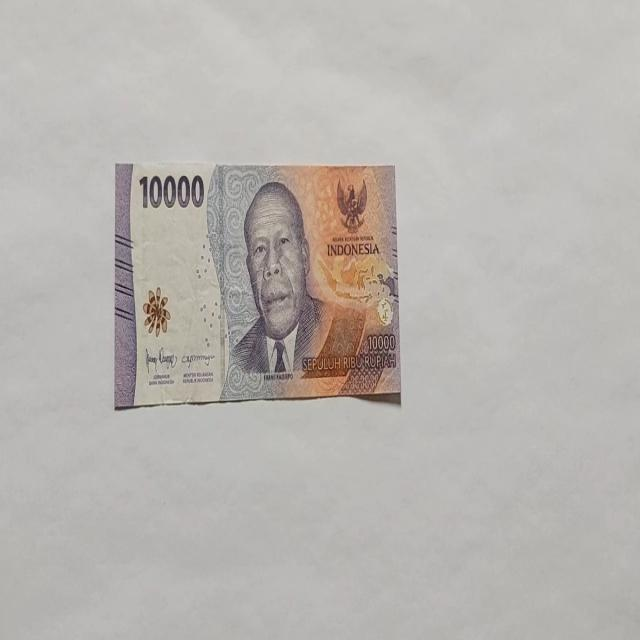sepuluh ribu rupiah: (114, 160, 402, 409), (216, 179, 368, 401)
